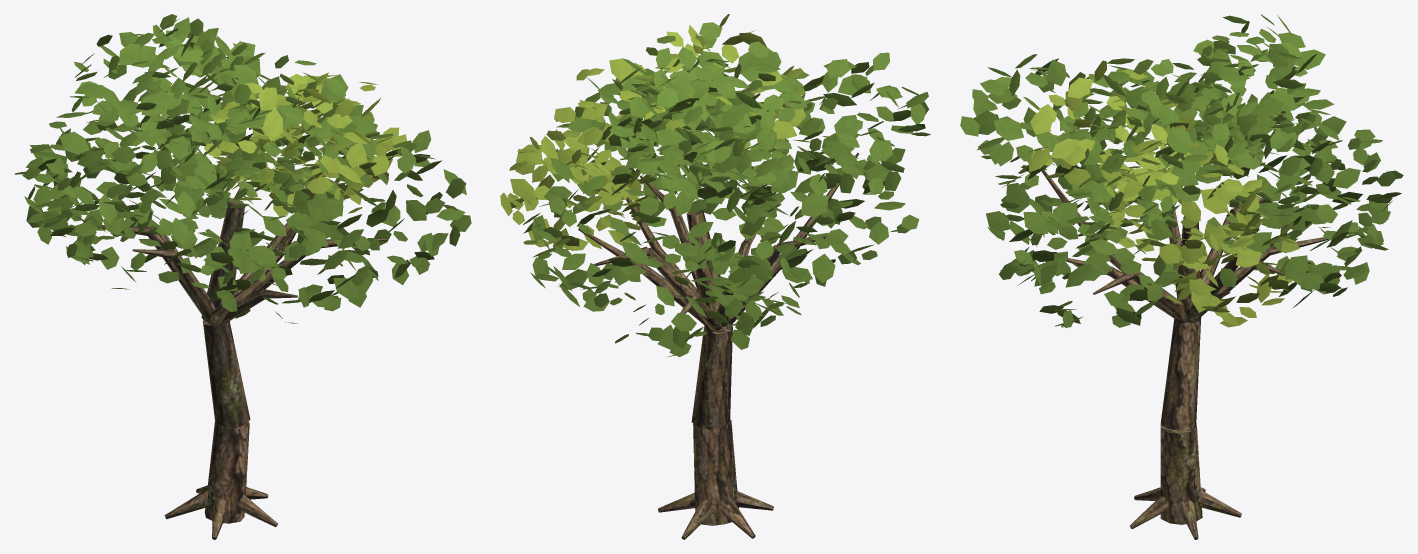
File: Broadleaf_A.glb
The picture shows the model from 3 angles, left to right: view 1: azimuth 30°, elevation 25°; view 2: azimuth 150°, elevation 25°; view 3: azimuth 270°, elevation 25°; orthographic projection.
Parts seen in each view (by area): view 1: Broadleaf_A; view 2: Broadleaf_A; view 3: Broadleaf_A.
Boxes of the visible parts, x1,y1,x2,y2 form: Broadleaf_A: (14, 14, 471, 539); Broadleaf_A: (500, 14, 930, 539); Broadleaf_A: (960, 14, 1403, 539).
Bounding box in the file's own units: 4.58 × 5.57 × 4.75.
1 material, 1 textured.
